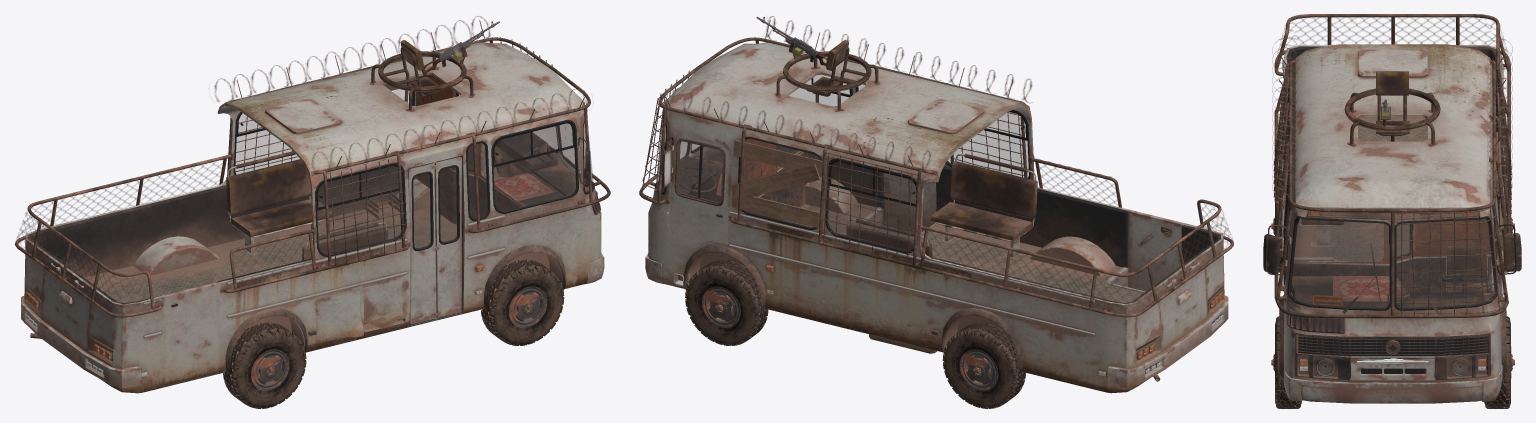
Rendered from paz_3205_model.glb.
3 renders of one model, left to right at view 1: azimuth 30°, elevation 25°; view 2: azimuth 150°, elevation 25°; view 3: azimuth 270°, elevation 25°, orthographic. The views are drawn at different scales.
Parts seen in each view (by area): view 1: Object153_3_MAPPING_0, Object065_4_MAPPING_0, Object128_2_MAPPING_0, Box094, Wheel_RR, Wheel_FR, Turret_Gun, Turret_Base; view 2: Object153_3_MAPPING_0, Object065_4_MAPPING_0, Object128_2_MAPPING_0, Box094, Wheel_RL, Wheel_FL, Turret_Gun, Turret_Base; view 3: Object153_3_MAPPING_0, Object065_4_MAPPING_0, Object128_2_MAPPING_0, Box094, Turret_Gun, Wheel_FL, Wheel_FR, Turret_Base.
Part boxes in pixels (x1,y1,x2,y2): Object153_3_MAPPING_0: (24, 42, 601, 393); Object065_4_MAPPING_0: (15, 16, 610, 376); Object128_2_MAPPING_0: (233, 77, 594, 256); Box094: (21, 179, 604, 388); Wheel_RR: (223, 322, 306, 408); Wheel_FR: (481, 259, 564, 345); Turret_Gun: (378, 21, 499, 102); Turret_Base: (370, 50, 474, 111); Object153_3_MAPPING_0: (648, 42, 1224, 393); Object065_4_MAPPING_0: (639, 16, 1233, 376); Object128_2_MAPPING_0: (655, 75, 1030, 253); Box094: (645, 177, 1228, 388); Wheel_RL: (942, 322, 1025, 408); Wheel_FL: (685, 259, 768, 345); Turret_Gun: (756, 16, 870, 102); Turret_Base: (775, 51, 879, 111); Object153_3_MAPPING_0: (1279, 44, 1521, 382); Object065_4_MAPPING_0: (1263, 14, 1512, 380); Object128_2_MAPPING_0: (1283, 84, 1500, 310); Box094: (1283, 365, 1502, 403); Turret_Gun: (1345, 71, 1439, 141); Wheel_FL: (1484, 316, 1514, 408); Wheel_FR: (1271, 316, 1301, 408); Turret_Base: (1344, 92, 1440, 146).
Bounding box in the file's own units: 69.93 × 37.25 × 28.43.
Materials: 5 (5 with a texture image).
